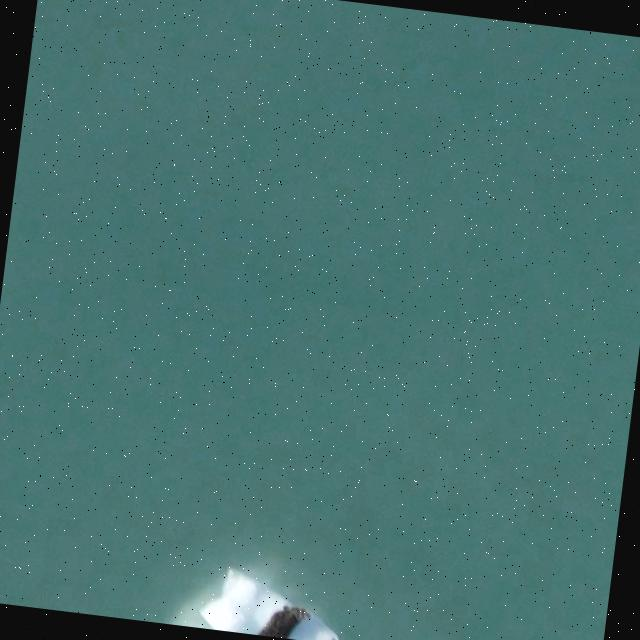seal: (255, 606, 307, 638)
